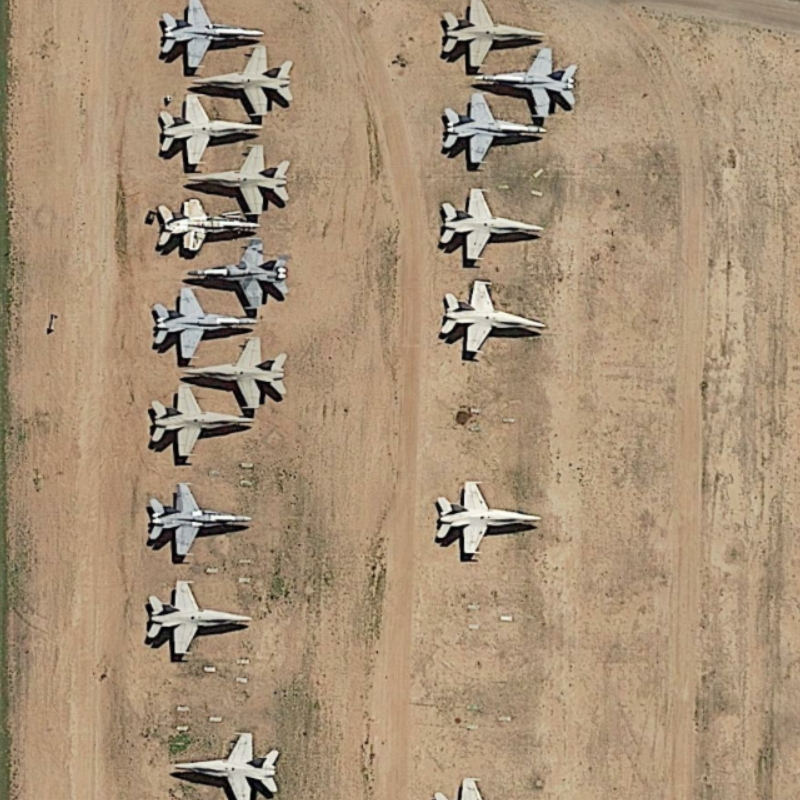A16: (136, 571, 261, 661), (436, 86, 553, 178), (142, 477, 256, 567), (434, 276, 553, 362), (434, 182, 551, 269), (430, 478, 551, 561), (144, 378, 254, 467), (169, 722, 294, 800), (177, 332, 300, 411), (148, 89, 261, 174), (148, 283, 262, 361), (472, 47, 587, 123), (192, 139, 301, 218), (193, 44, 304, 121), (188, 239, 301, 313), (436, 5, 551, 77), (156, 2, 265, 73), (149, 194, 264, 257)
